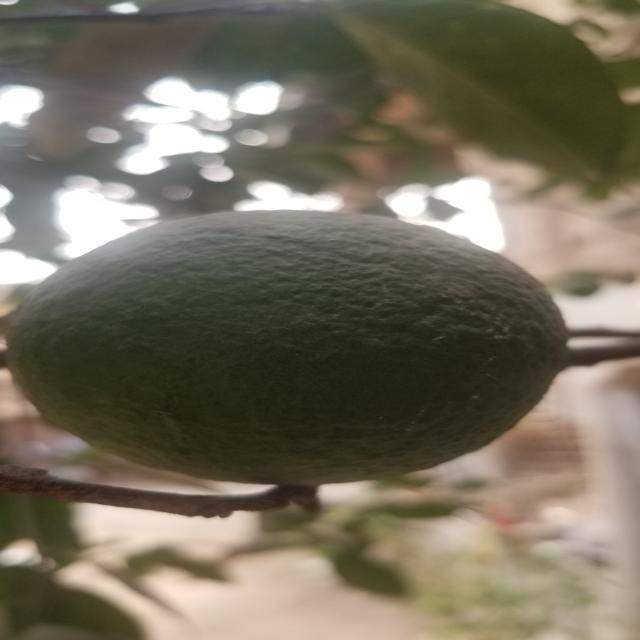Unripe: (4, 214, 572, 489)
